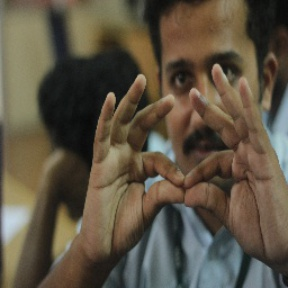B: (123, 127, 248, 235)
